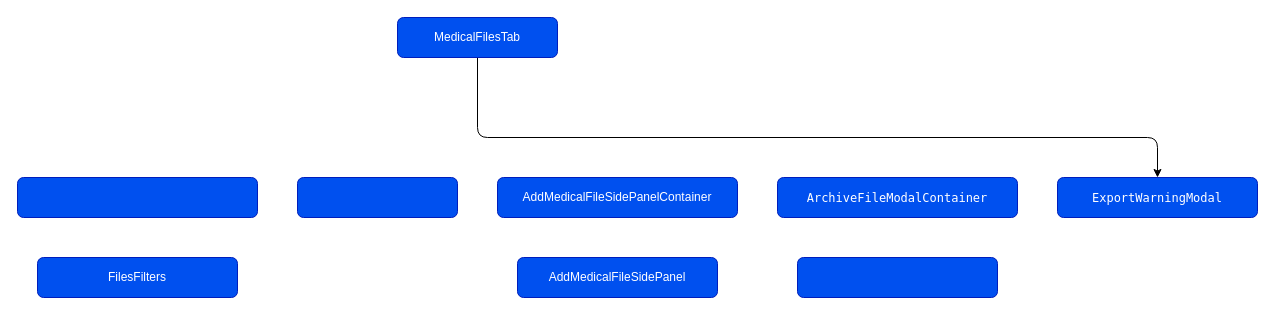
Image size: 1275x315. Some labels were removed from this diagram. Each missing label, with the centre of its shape:
"ArchiveFileModal" belongs at pixel 897 277.
"FilesFiltersContainer" belongs at pixel 137 197.
"FilesTable" belongs at pixel 377 197.
